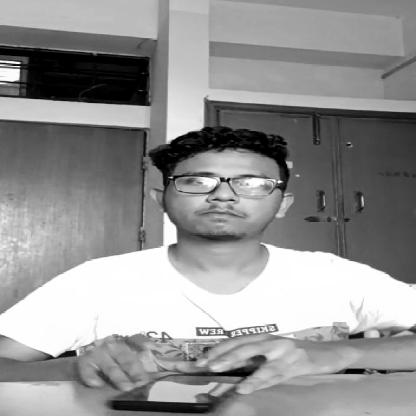Normal: (137, 131, 305, 251)
